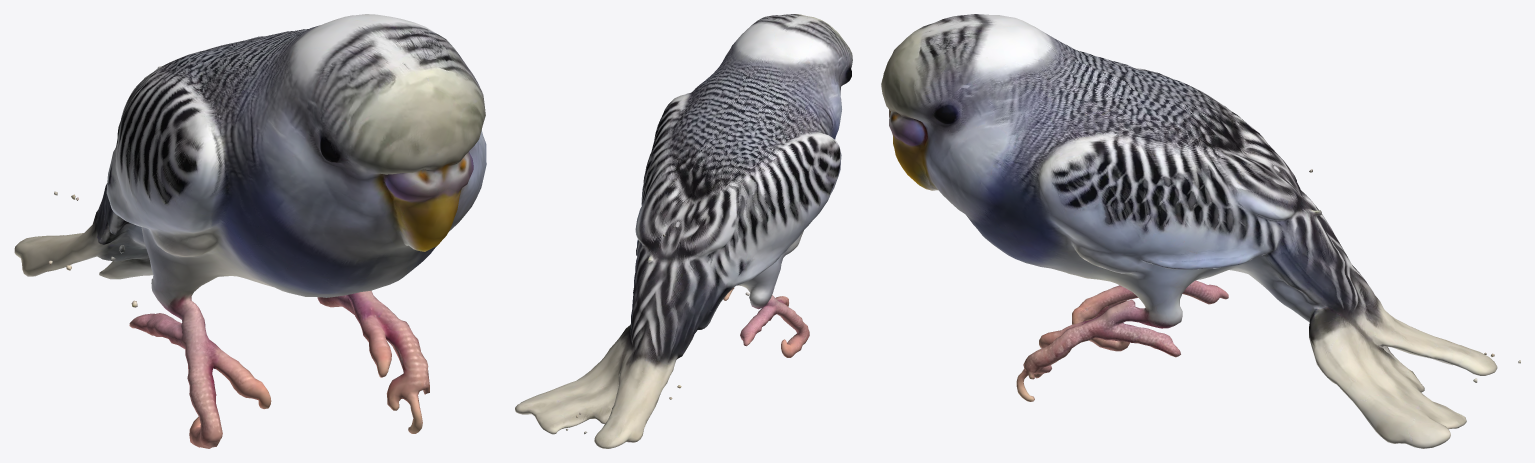
Rendered from peter.compressed.glb.
3 views of the same model, side by side, from view 1: azimuth 30°, elevation 25°; view 2: azimuth 150°, elevation 25°; view 3: azimuth 270°, elevation 25° (orthographic). The views are drawn at different scales.
Size of the model in its own units: 0.818 by 1.21 by 1.9.
1 material, 1 textured.
